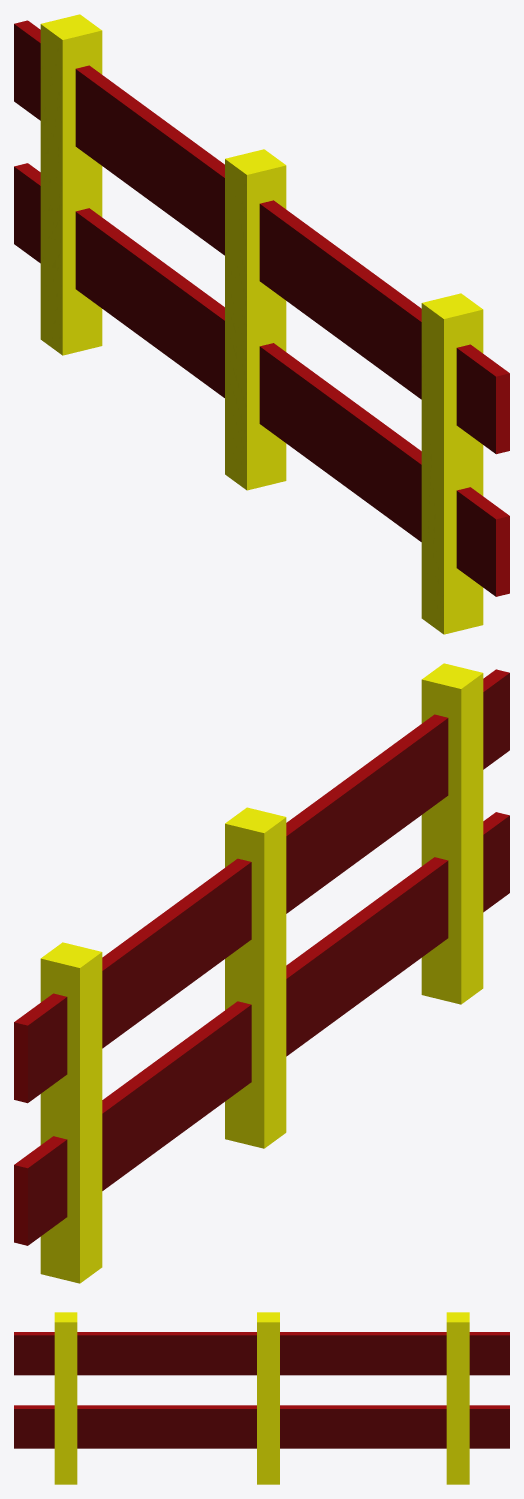
File: Fence1.fbx
3 views of the same model, one above another, from view 1: azimuth 30°, elevation 25°; view 2: azimuth 150°, elevation 25°; view 3: azimuth 270°, elevation 25° (orthographic). The views are drawn at different scales.
Visible parts, largest first — view 1: Fence1; view 2: Fence1; view 3: Fence1.
Part boxes in pixels (x1,y1,x2,y2): Fence1: (14,14,509,634); Fence1: (14,663,509,1283); Fence1: (14,1312,509,1484).
Bounding box in the file's own units: 0.5687 × 4.35 × 12.04.
